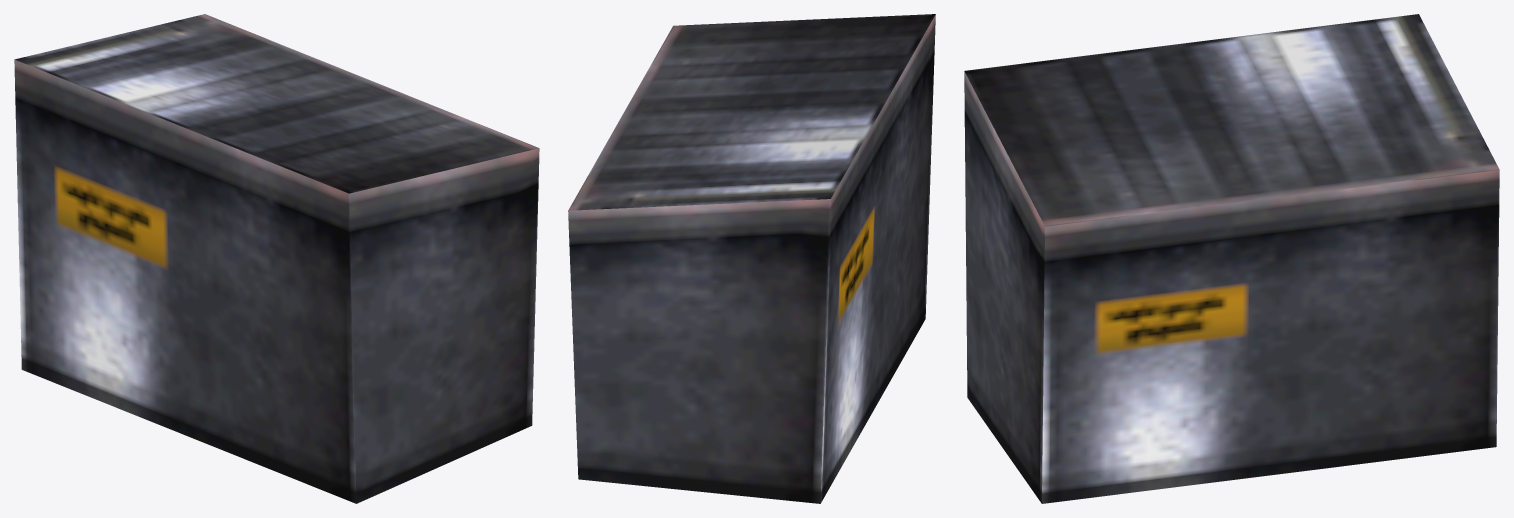
The model's file is dump01.glb.
3 renders of one model, left to right at view 1: azimuth 30°, elevation 25°; view 2: azimuth 150°, elevation 25°; view 3: azimuth 270°, elevation 25°, orthographic. The views are drawn at different scales.
Parts seen in each view (by area): view 1: dump01; view 2: dump01; view 3: dump01.
Part boxes in pixels (left/top/right/bottom): dump01: left=14, top=14, right=539, bottom=503; dump01: left=568, top=14, right=935, bottom=503; dump01: left=964, top=14, right=1499, bottom=503.
Size of the model in its own units: 356 by 311 by 468.
Materials: 1 (1 with a texture image).
